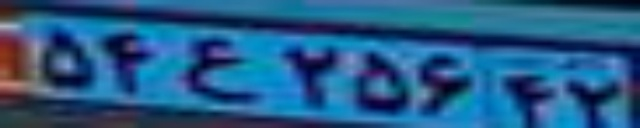2: (278, 45, 342, 109), (564, 75, 622, 127)
4: (103, 32, 151, 96), (500, 73, 556, 125)
5: (350, 50, 408, 116), (39, 29, 95, 89)
6: (413, 52, 473, 116)
ain: (175, 33, 262, 103)
